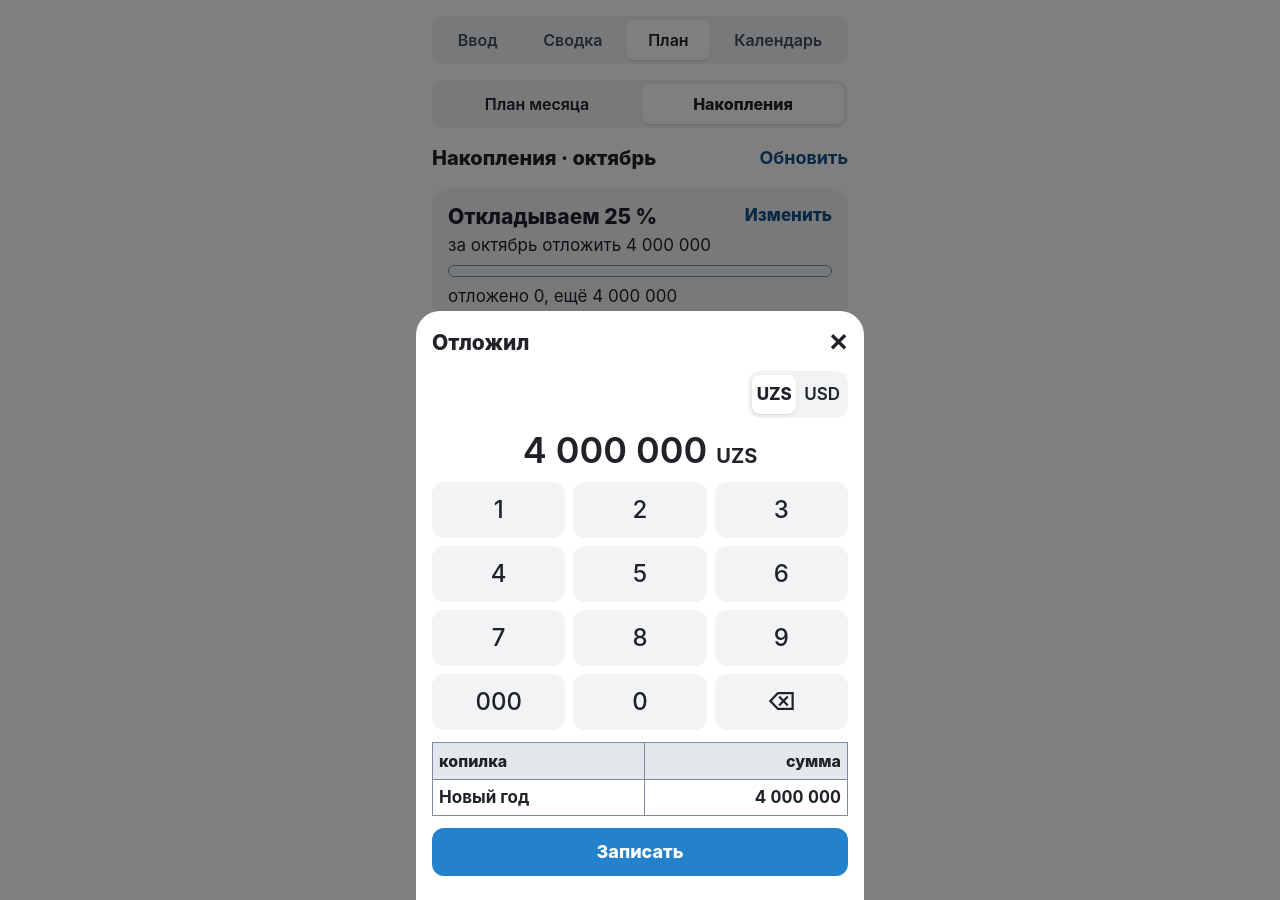
Test: App › does not open «Отложил» again after the user moves on
Click the button named "Закрыть" at (838, 343), box [828,327,848,359]
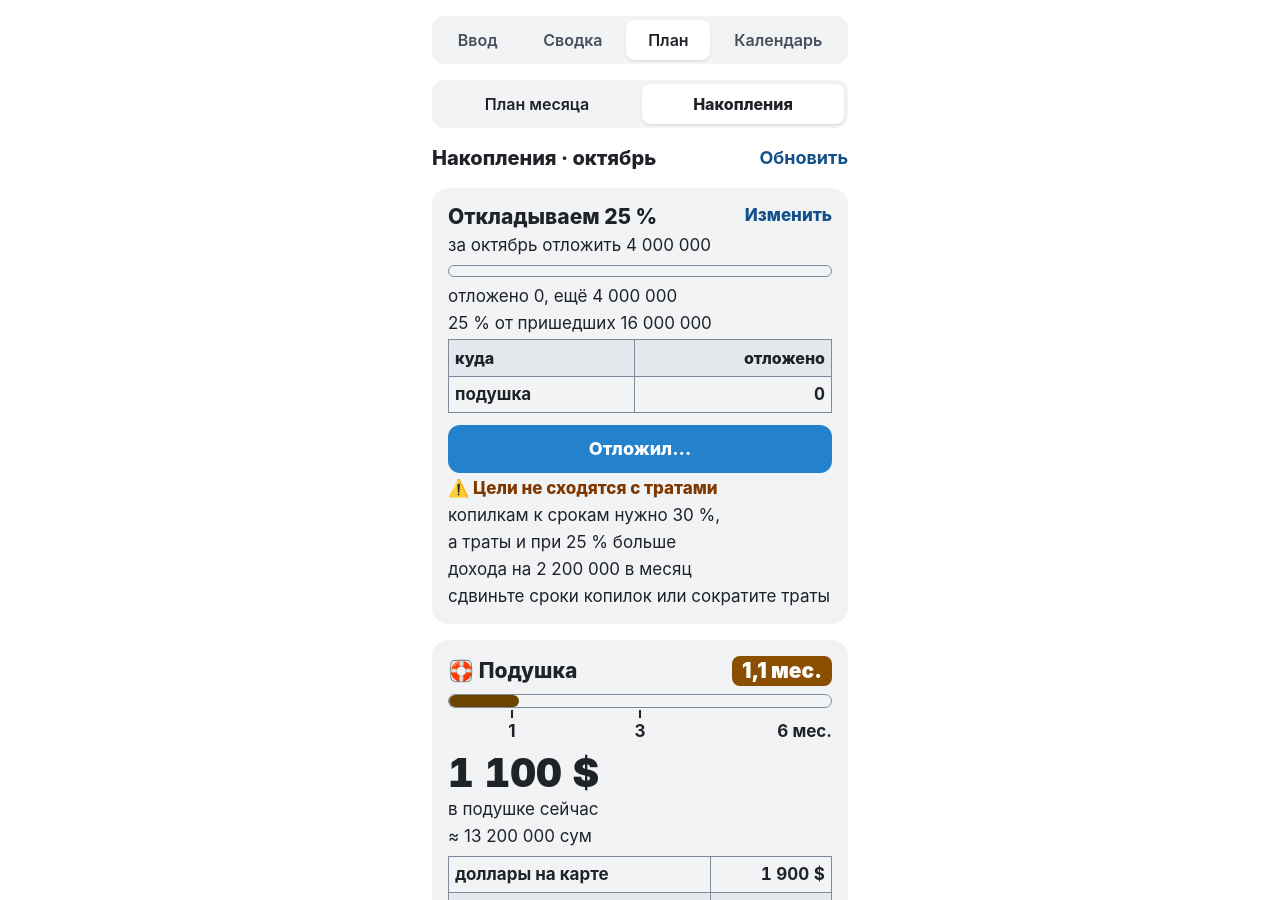
Click the tab "Сводка" at (573, 40), box [521,20,624,60]
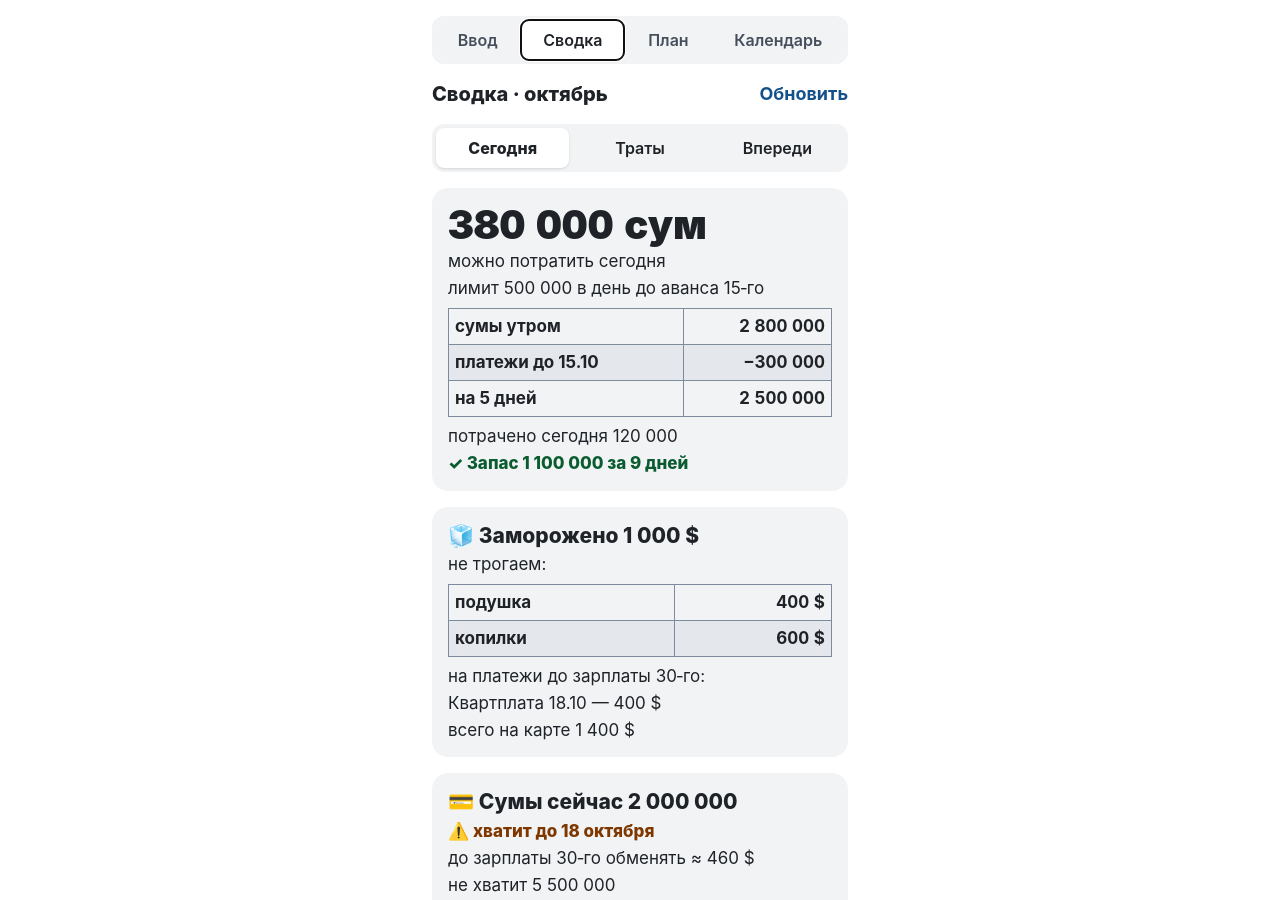
Click the tab "План" at (668, 40), box [626,20,710,60]
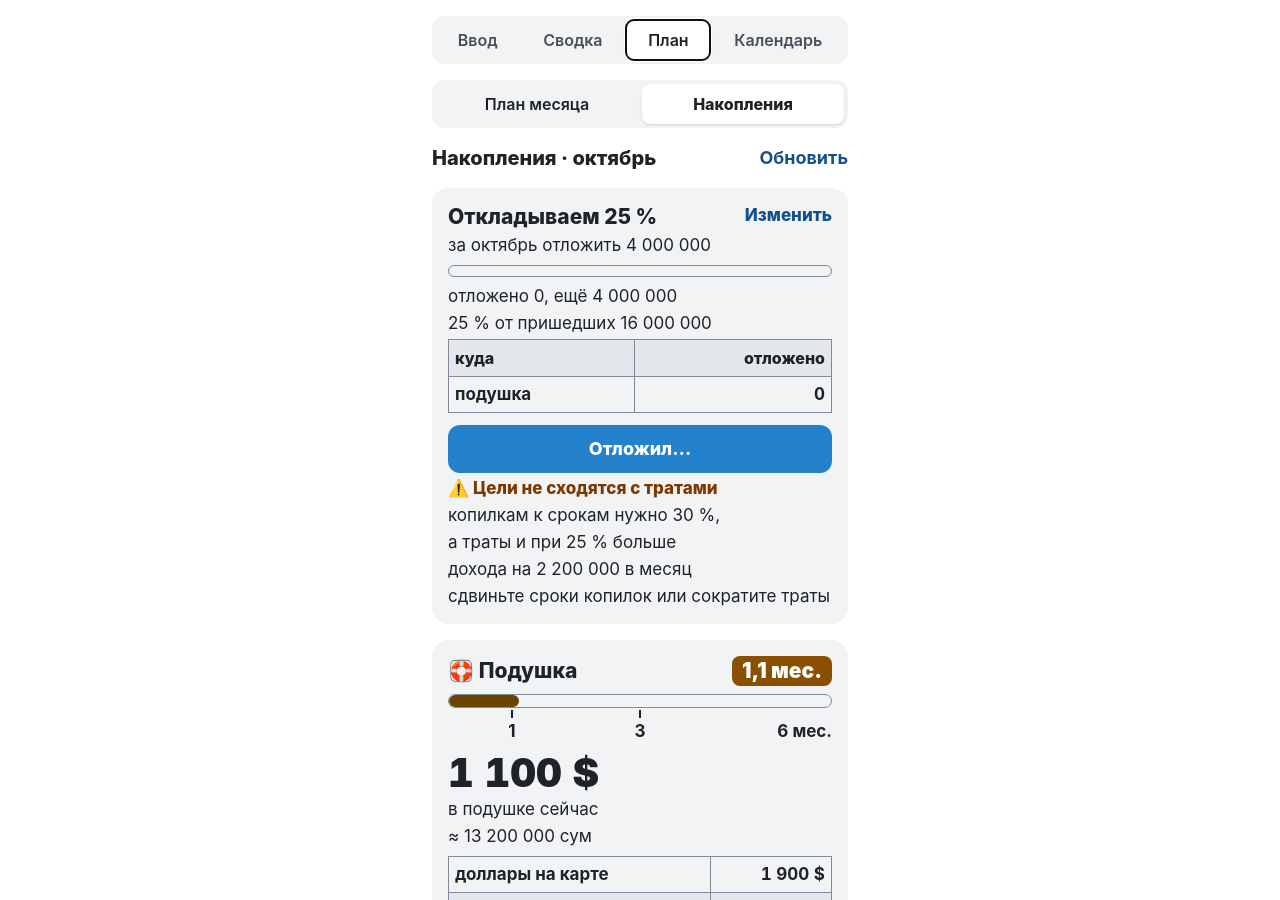
Result: the heading "Откладываем 25 %" is shown at [448,204,657,229]
